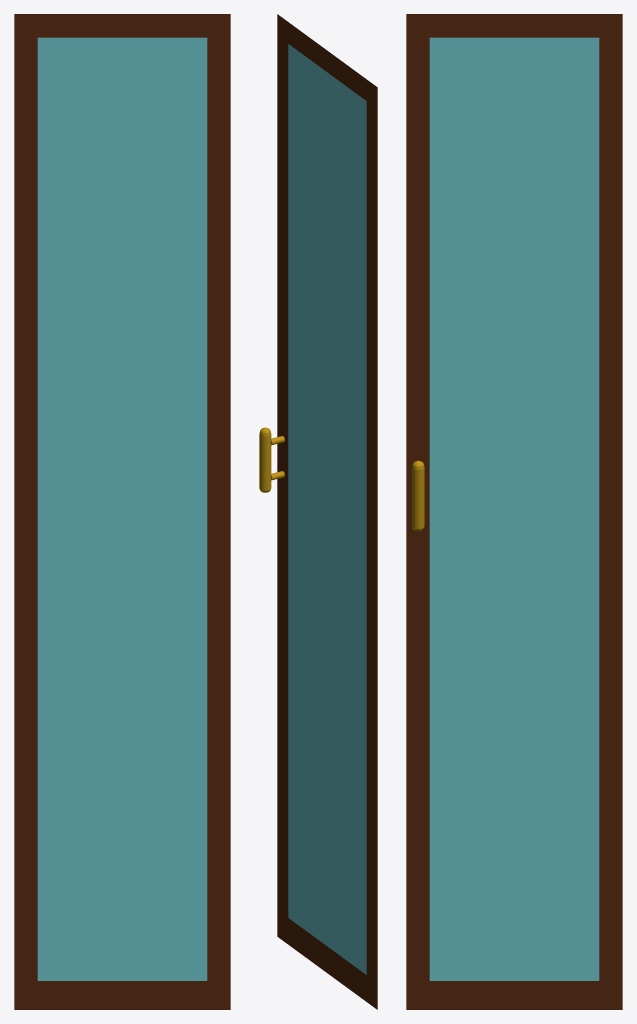
Rendered from vetrinaDoorRight.fbx.
The picture shows the model from 3 angles, left to right: view 1: azimuth 90°, elevation 25°; view 2: azimuth 210°, elevation 25°; view 3: azimuth 270°, elevation 25°; orthographic projection. The views are drawn at different scales.
Parts seen in each view (by area): view 1: Cylinder.002; view 2: Cylinder.002; view 3: Cylinder.002.
Boxes of the visible parts, x1,y1,x2,y2 form: Cylinder.002: [14, 14, 230, 1009]; Cylinder.002: [259, 14, 377, 1009]; Cylinder.002: [406, 14, 622, 1009].
Bounding box in the file's own units: 9.23 × 359 × 70.62.
